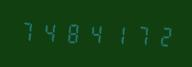eight: (61, 18, 82, 46)
four: (83, 19, 104, 47), (39, 18, 60, 45)
one: (105, 20, 126, 48)
seven: (17, 17, 38, 44), (127, 21, 148, 48)
two: (149, 21, 170, 49)
